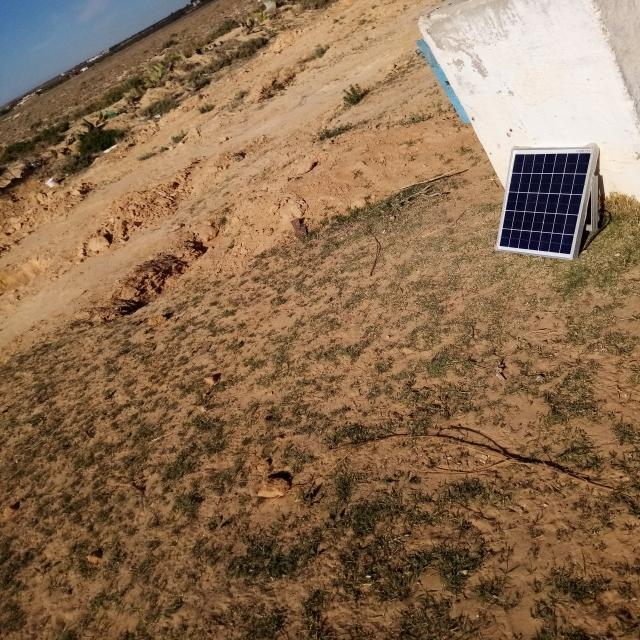no faulty: (496, 148, 594, 259)
